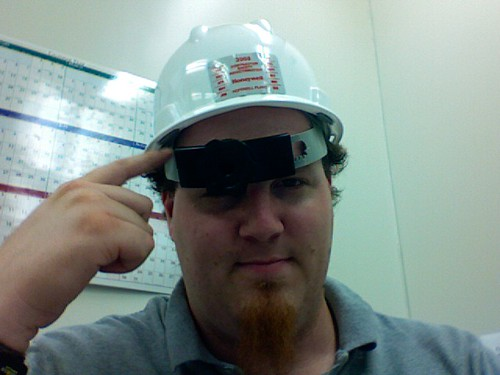person hardhat: (140, 18, 343, 332)
